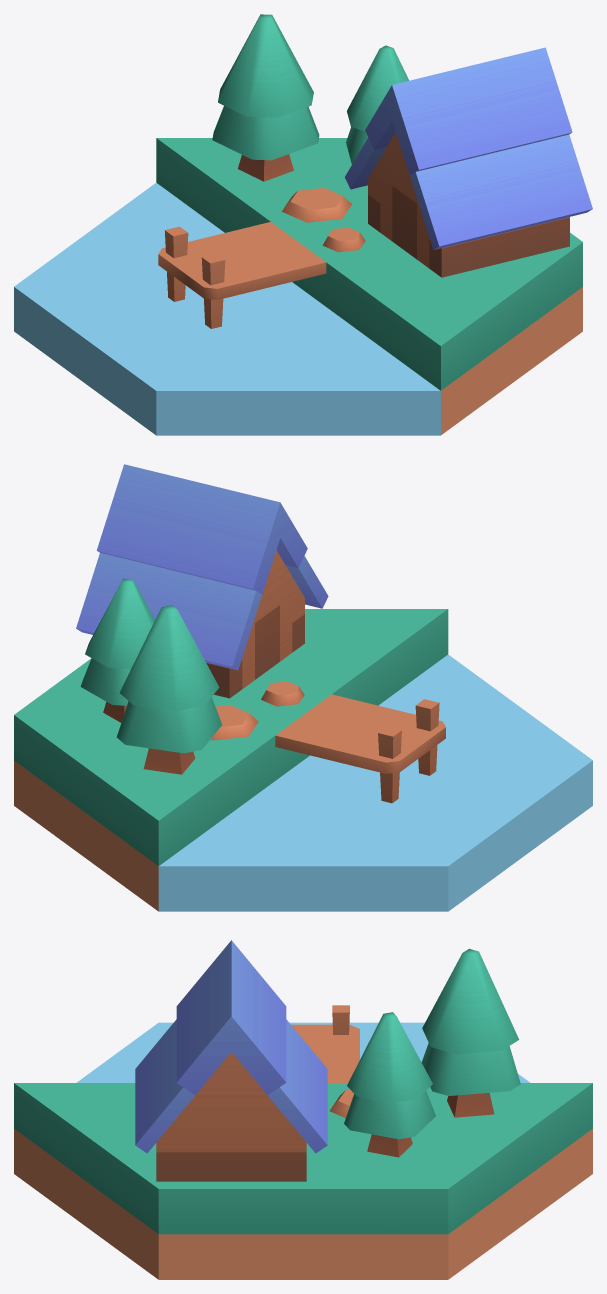
The model's file is building-dock.fbx.
3 views of the same model, one above another, from view 1: azimuth 30°, elevation 25°; view 2: azimuth 150°, elevation 25°; view 3: azimuth 270°, elevation 25° (orthographic).
Visible parts, largest first — view 1: building_dock; view 2: building_dock; view 3: building_dock.
Boxes of the visible parts, box(x1,y1,x2,y2) form: building_dock: box(14, 14, 592, 435); building_dock: box(14, 464, 592, 911); building_dock: box(14, 940, 592, 1279).
Size of the model in its own units: 100 by 57.81 by 115.
1 material, 1 textured.
